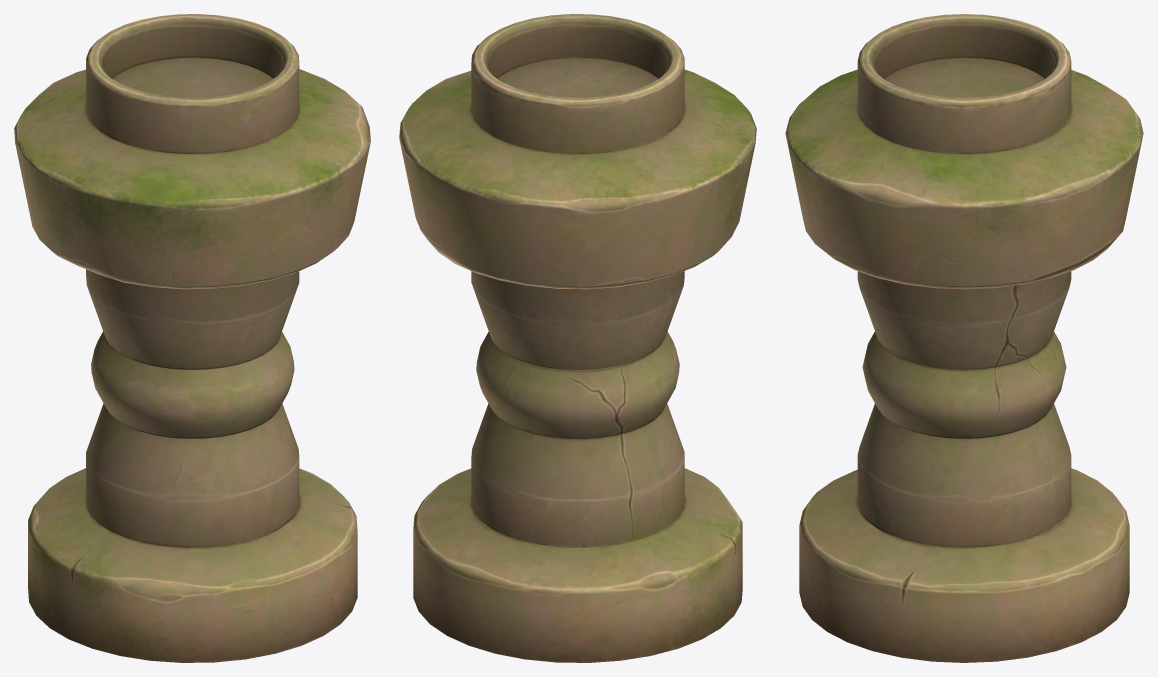
The model's file is SM_Torch.fbx.
3 views of the same model, side by side, from view 1: azimuth 30°, elevation 25°; view 2: azimuth 150°, elevation 25°; view 3: azimuth 270°, elevation 25° (orthographic).
Visible parts, largest first — view 1: SM_Torch_LOD0; view 2: SM_Torch_LOD0; view 3: SM_Torch_LOD0.
Part boxes in pixels (x1,y1,x2,y2): SM_Torch_LOD0: (14,14,370,662); SM_Torch_LOD0: (399,14,756,662); SM_Torch_LOD0: (785,14,1143,662).
Size of the model in its own units: 75.48 by 75.48 by 125.
Materials: 1 (1 with a texture image).
